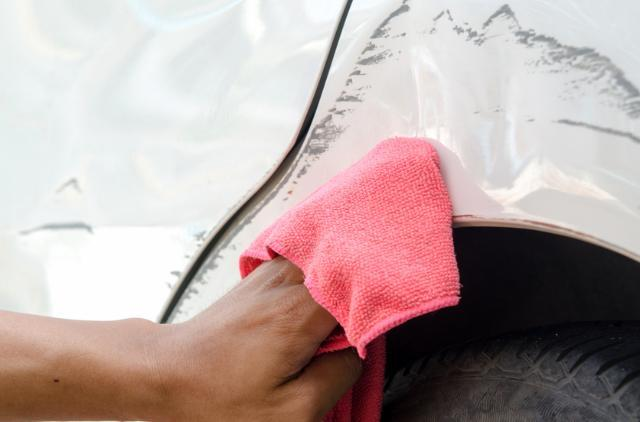Fender: (275, 0, 640, 235)
